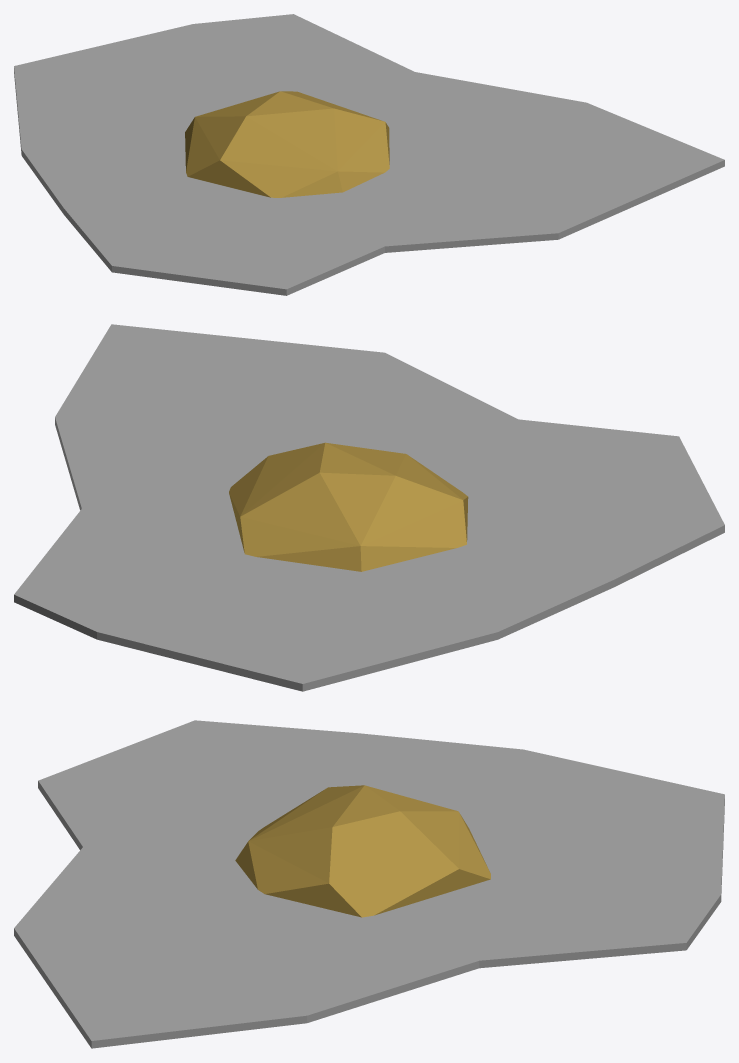
File: Egg_Fried.glb
3 views of the same model, one above another, from view 1: azimuth 30°, elevation 25°; view 2: azimuth 150°, elevation 25°; view 3: azimuth 270°, elevation 25° (orthographic). The views are drawn at different scales.
Parts seen in each view (by area): view 1: Egg_Fried; view 2: Egg_Fried; view 3: Egg_Fried.
Boxes of the visible parts, <box> form: Egg_Fried: <box>14,14,724,295</box>; Egg_Fried: <box>14,324,724,691</box>; Egg_Fried: <box>14,720,724,1048</box>.
Bounding box in the file's own units: 0.1967 × 0.0177 × 0.1843.
